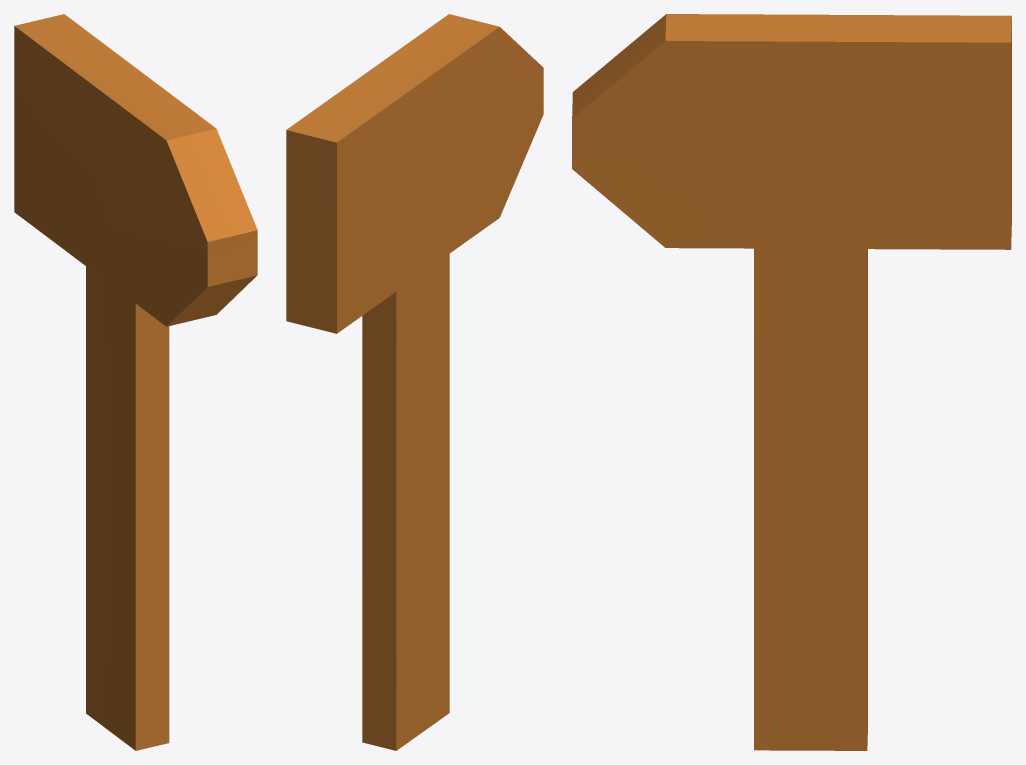
File: sing.fbx
The picture shows the model from 3 angles, left to right: view 1: azimuth 30°, elevation 25°; view 2: azimuth 150°, elevation 25°; view 3: azimuth 270°, elevation 25°; orthographic projection. The views are drawn at different scales.
Parts seen in each view (by area): view 1: sing; view 2: sing; view 3: sing.
Part boxes in pixels (x1,y1,x2,y2): sing: [14, 14, 257, 750]; sing: [286, 14, 543, 750]; sing: [572, 14, 1011, 750].
Bounding box in the file's own units: 23.57 × 268 × 150.
